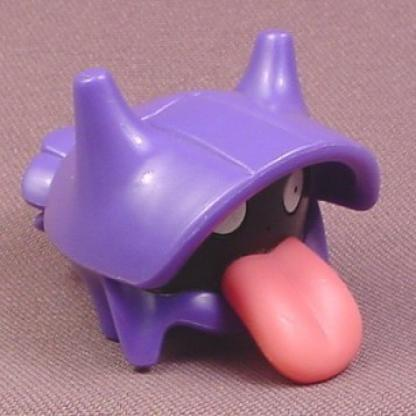Shellder: (35, 29, 384, 381)
